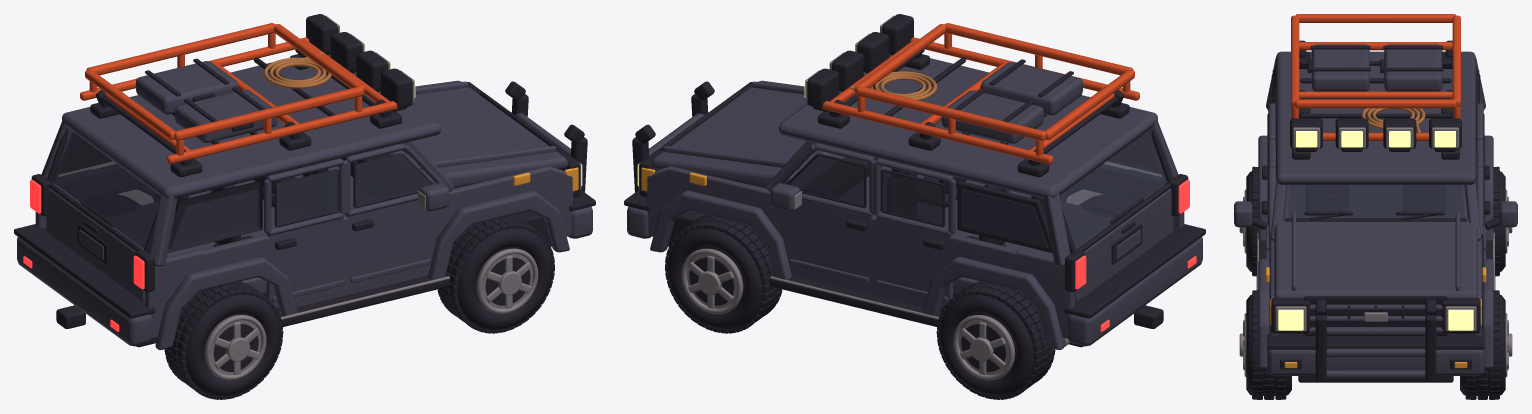
3 views of the same model, side by side, from view 1: azimuth 30°, elevation 25°; view 2: azimuth 150°, elevation 25°; view 3: azimuth 270°, elevation 25° (orthographic). The views are drawn at different scales.
Parts seen in each view (by area): view 1: body_paint, body_rubber, body_rack, wheelRL_rubber, wheelFL_rubber, doorL_paint, doorRearL_paint, doorHatch_glass, doorHatch_paint, body_glass, doorL_glass, doorRearL_glass (+8 smaller); view 2: body_paint, body_rubber, body_rack, wheelRR_rubber, wheelFR_rubber, doorR_paint, doorRearR_paint, doorHatch_glass, doorHatch_paint, body_glass, wheelFR_metal, wheelRR_metal (+8 smaller); view 3: body_paint, body_rubber, body_rack, body_glass, body_metal, wheelFL_rubber, wheelFR_rubber, wheelRL_rubber, wheelRR_rubber, doorL_paint, doorR_paint, body_rope (+11 smaller).
Part boxes in pixels (left/top/right/bottom): body_paint: left=17, top=54, right=592, bottom=349; body_rubber: left=14, top=14, right=595, bottom=347; body_rack: left=80, top=23, right=398, bottom=164; wheelRL_rubber: left=164, top=281, right=283, bottom=399; wheelFL_rubber: left=437, top=214, right=554, bottom=333; doorL_paint: left=344, top=143, right=447, bottom=290; doorRearL_paint: left=264, top=158, right=346, bottom=308; doorHatch_glass: left=52, top=131, right=160, bottom=248; doorHatch_paint: left=46, top=184, right=144, bottom=301; body_glass: left=171, top=150, right=404, bottom=247; doorL_glass: left=355, top=155, right=432, bottom=207; doorRearL_glass: left=276, top=171, right=338, bottom=226; body_paint: left=627, top=54, right=1202, bottom=349; body_rubber: left=624, top=14, right=1205, bottom=347; body_rack: left=821, top=23, right=1139, bottom=164; wheelRR_rubber: left=936, top=281, right=1055, bottom=399; wheelFR_rubber: left=665, top=214, right=782, bottom=333; doorR_paint: left=772, top=143, right=875, bottom=290; doorRearR_paint: left=873, top=158, right=955, bottom=308; doorHatch_glass: left=1059, top=131, right=1167, bottom=248; doorHatch_paint: left=1075, top=184, right=1173, bottom=301; body_glass: left=815, top=150, right=1048, bottom=247; wheelFR_metal: left=681, top=248, right=743, bottom=313; wheelRR_metal: left=953, top=315, right=1015, bottom=380; body_paint: left=1234, top=44, right=1517, bottom=378; body_rubber: left=1252, top=40, right=1499, bottom=382; body_rack: left=1291, top=14, right=1460, bottom=140; body_glass: left=1271, top=75, right=1480, bottom=217; body_metal: left=1257, top=127, right=1494, bottom=331; wheelFL_rubber: left=1246, top=290, right=1291, bottom=399; wheelFR_rubber: left=1460, top=290, right=1505, bottom=399; wheelRL_rubber: left=1246, top=166, right=1258, bottom=276; wheelRR_rubber: left=1493, top=166, right=1505, bottom=276; doorL_paint: left=1266, top=139, right=1275, bottom=260; doorR_paint: left=1476, top=139, right=1485, bottom=260; body_rope: left=1361, top=108, right=1425, bottom=133.
Size of the model in its own units: 5.14 by 2.56 by 2.74.
